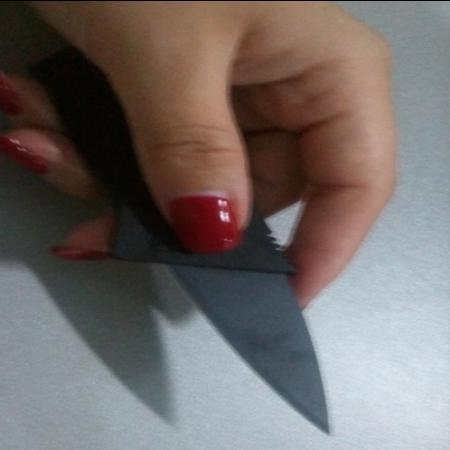long weapon: (104, 182, 348, 441)
